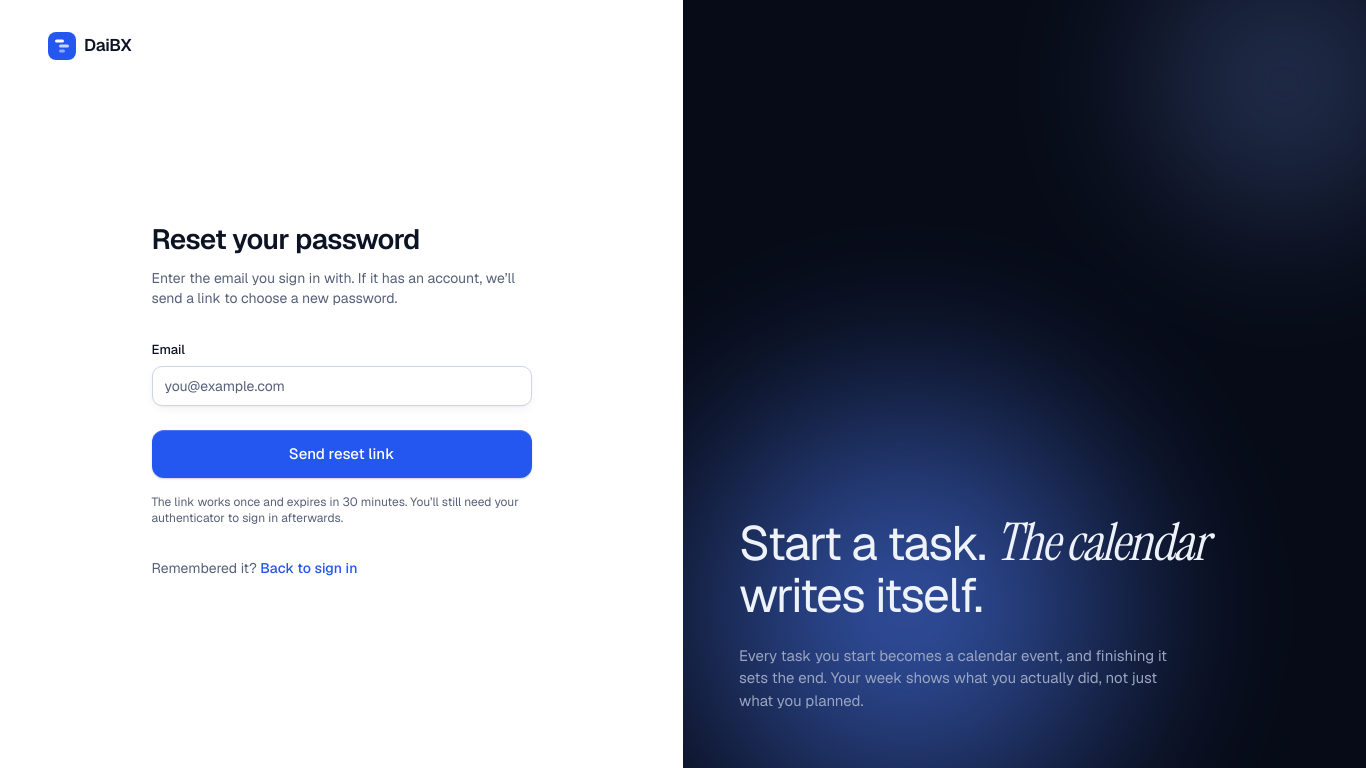
Test: asking for a reset says to check the email, whether or not the account exists
Type "shan@daibx.test" into the field labelled "Email" at (342, 386), box 152,366 -> 532,406
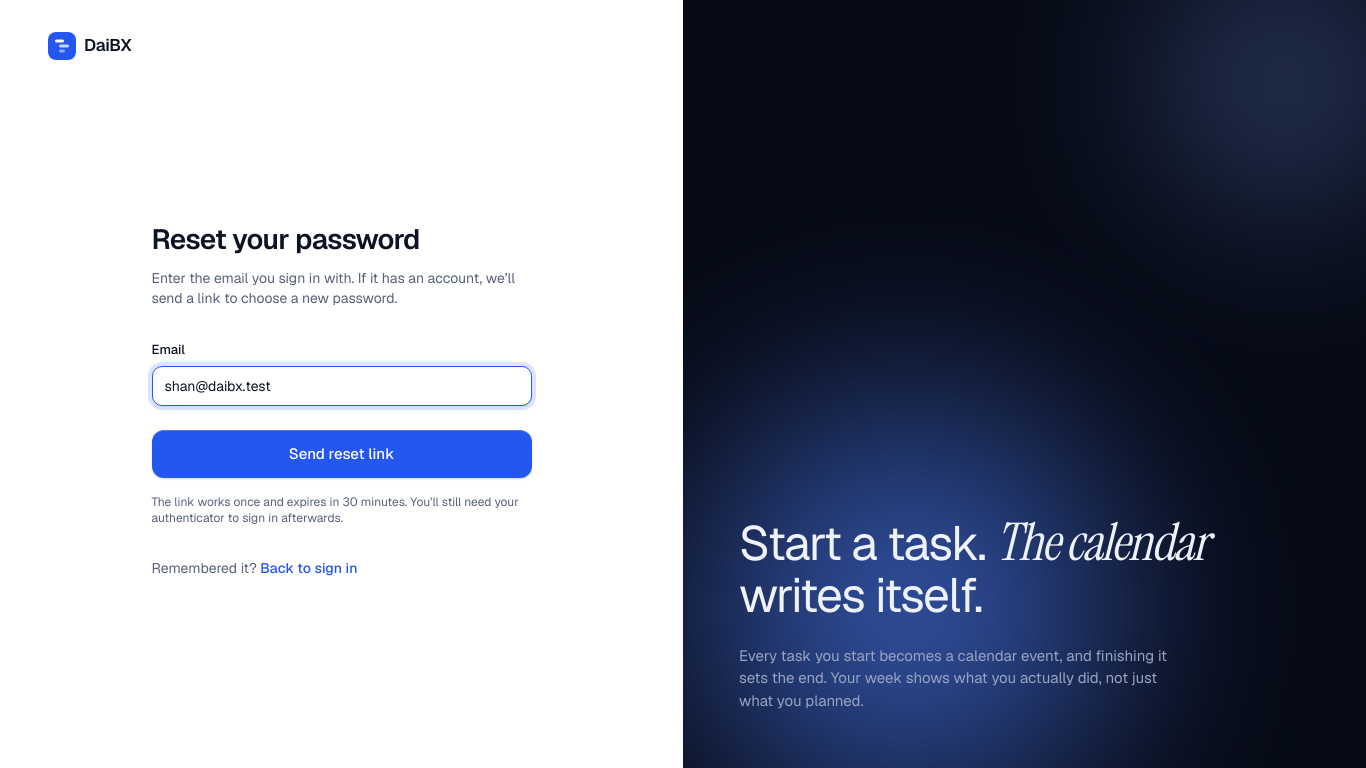
Click the button "Send reset link" at (342, 454), box 152,430 -> 532,478
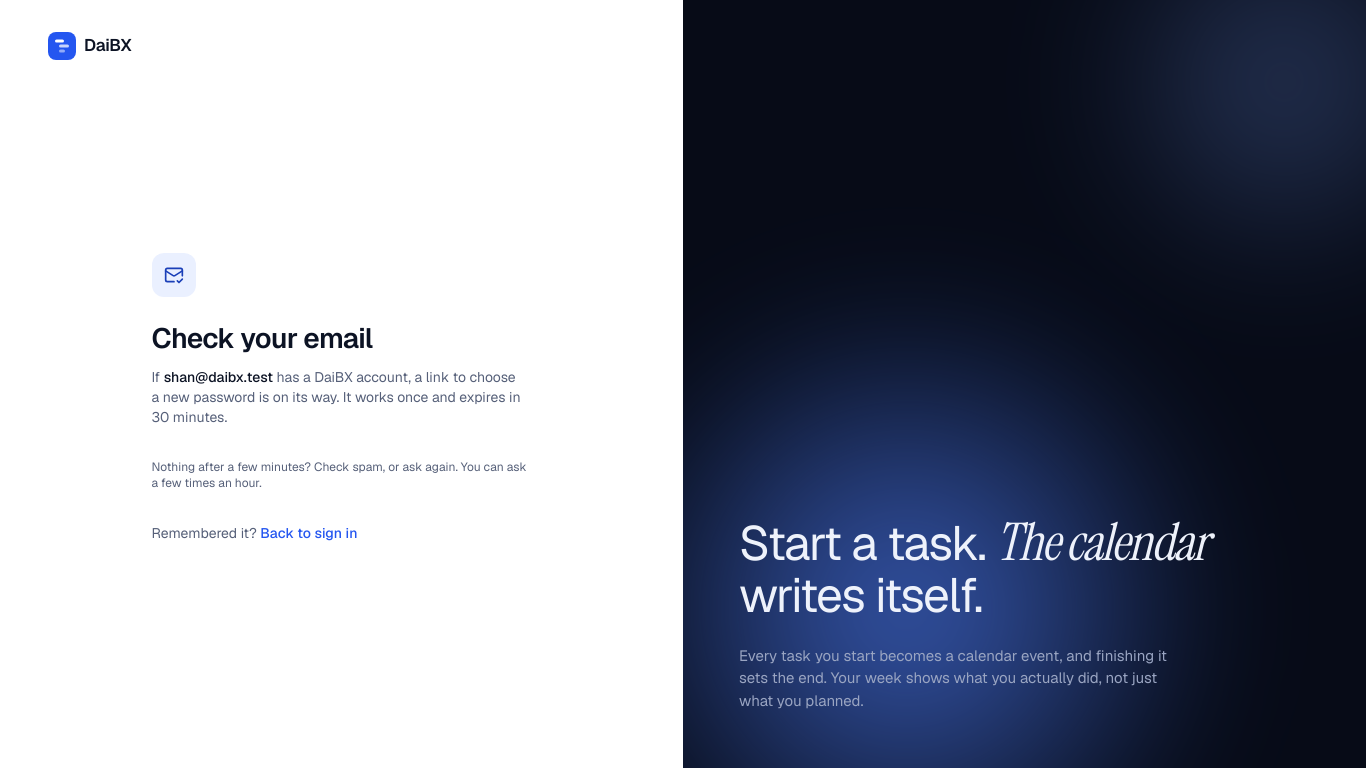
Now the heading "Check your email" is shown, box 152,320 -> 372,356
Now the text "shan@daibx.test" is shown, box 164,368 -> 273,386
